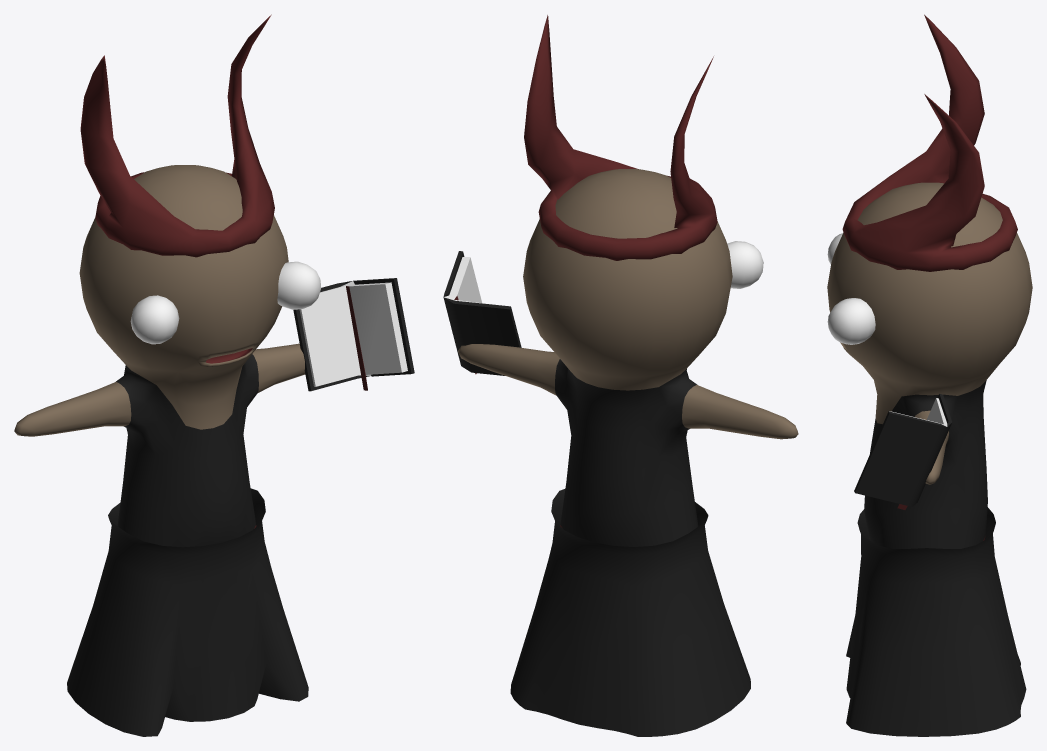
The model's file is dood.FBX.
The picture shows the model from 3 angles, left to right: view 1: azimuth 30°, elevation 25°; view 2: azimuth 150°, elevation 25°; view 3: azimuth 270°, elevation 25°; orthographic projection. The views are drawn at different scales.
Visible parts, largest first — view 1: dood, pants, hat, book; view 2: dood, pants, hat, book; view 3: dood, pants, hat, book.
Part boxes in pixels (x1=…): dood: x1=14, y1=165, x2=320, y2=547; pants: x1=67, y1=488, x2=308, y2=736; hat: x1=80, y1=14, x2=274, y2=257; book: x1=293, y1=278, x2=414, y2=391; dood: x1=458, y1=169, x2=798, y2=546; pants: x1=510, y1=489, x2=750, y2=736; hat: x1=524, y1=15, x2=717, y2=260; book: x1=443, y1=251, x2=521, y2=375; dood: x1=827, y1=182, x2=1032, y2=548; pants: x1=846, y1=507, x2=1026, y2=736; hat: x1=842, y1=14, x2=1017, y2=271; book: x1=854, y1=393, x2=952, y2=509.
Bounding box in the file's own units: 23.41 × 40.62 × 11.85.
